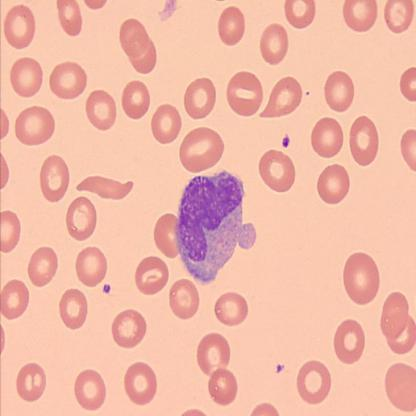Monocyte: (173, 167, 258, 285)
